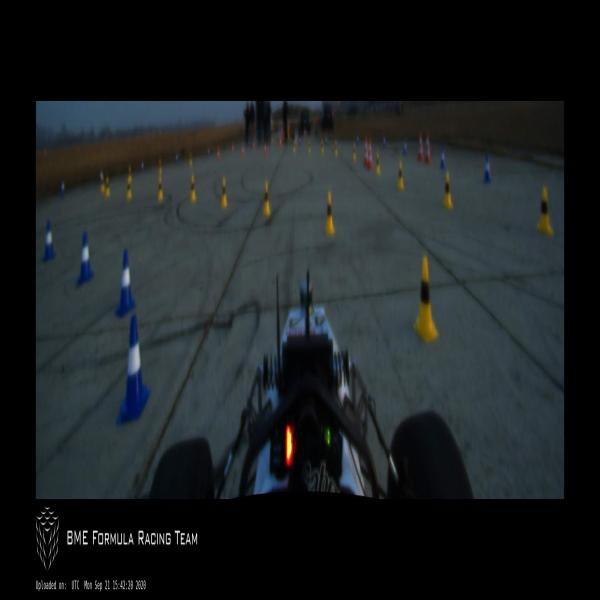blue_cone: (116, 316, 150, 424), (115, 249, 136, 316), (77, 233, 94, 282), (42, 222, 55, 263), (482, 154, 491, 184), (439, 147, 446, 172), (60, 179, 65, 197), (403, 138, 407, 155), (140, 158, 144, 173), (382, 134, 386, 149), (206, 146, 210, 158), (175, 151, 178, 165), (356, 131, 359, 144), (325, 133, 327, 145)
large_orange_cone: (424, 131, 431, 165), (417, 131, 424, 162), (366, 136, 372, 170), (363, 132, 368, 167)
orange_cone: (230, 140, 234, 154), (263, 140, 267, 154), (242, 143, 245, 156), (279, 135, 282, 148), (217, 146, 220, 158), (252, 138, 255, 150)
yellow_cone: (414, 258, 439, 343), (536, 188, 553, 237), (324, 193, 336, 234), (443, 172, 453, 209), (262, 183, 270, 215), (397, 162, 405, 190), (190, 176, 197, 202), (157, 176, 164, 200), (221, 180, 227, 207), (126, 178, 132, 200), (376, 152, 381, 178), (104, 178, 110, 198), (100, 172, 105, 194), (128, 164, 132, 183), (352, 142, 356, 160), (158, 158, 162, 174), (334, 139, 337, 155), (189, 152, 192, 166), (320, 138, 323, 152), (292, 139, 295, 153), (308, 139, 310, 153)
